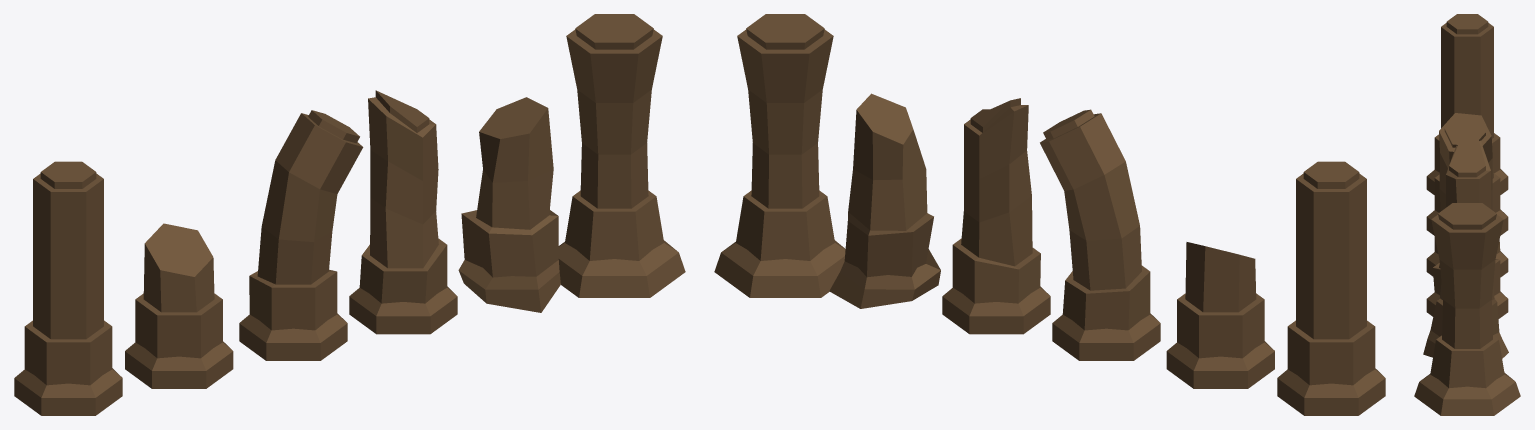
File: PillarSet.fbx
3 renders of one model, left to right at view 1: azimuth 30°, elevation 25°; view 2: azimuth 150°, elevation 25°; view 3: azimuth 270°, elevation 25°, orthographic. The views are drawn at different scales.
Visible parts, largest first — view 1: Pillar_06, Pillar_01, Pillar_03, Pillar_04, Pillar_05, Pillar_02; view 2: Pillar_06, Pillar_01, Pillar_03, Pillar_04, Pillar_05, Pillar_02; view 3: Pillar_06, Pillar_01, Pillar_04, Pillar_03, Pillar_05, Pillar_02.
Part boxes in pixels (x1,y1,x2,y2): Pillar_06: (558,14,685,297); Pillar_01: (14,161,122,415); Pillar_03: (239,110,363,360); Pillar_04: (349,90,457,334); Pillar_05: (458,97,560,312); Pillar_02: (125,223,233,388); Pillar_06: (714,14,845,297); Pillar_01: (1277,161,1385,415); Pillar_03: (1040,109,1160,360); Pillar_04: (942,98,1050,334); Pillar_05: (829,93,940,308); Pillar_02: (1166,242,1274,388); Pillar_06: (1414,203,1520,415); Pillar_01: (1426,14,1508,194); Pillar_04: (1426,136,1508,319); Pillar_03: (1426,113,1508,277); Pillar_05: (1423,282,1508,358); Pillar_02: (1426,128,1508,235).
Size of the model in its own units: 1362 by 496 by 262.
